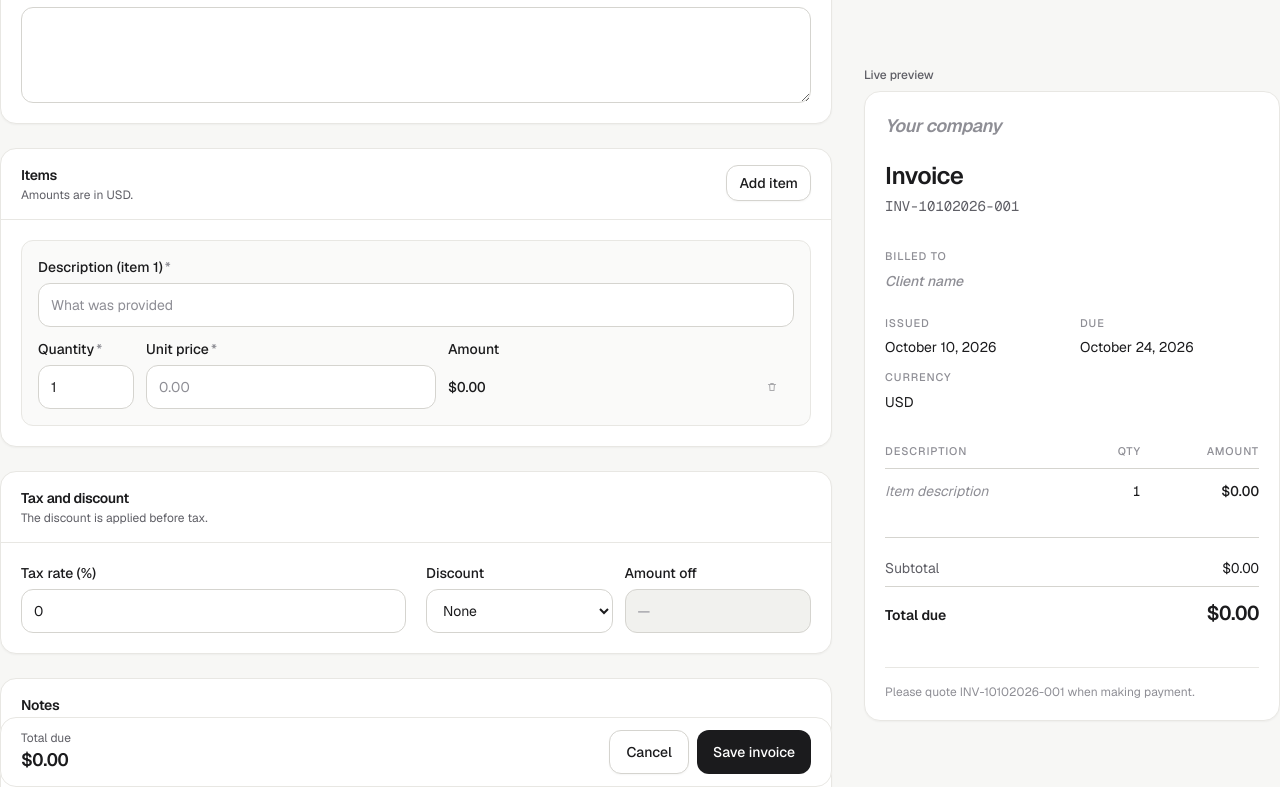
InvoiceForm: a new document › applies a percentage discount before tax and shows it
The width and height of the screenshot is (1280, 787).
(page scrolled)
Type "100" into the field labelled "Unit price" at (291, 387), box [146, 365, 436, 409]
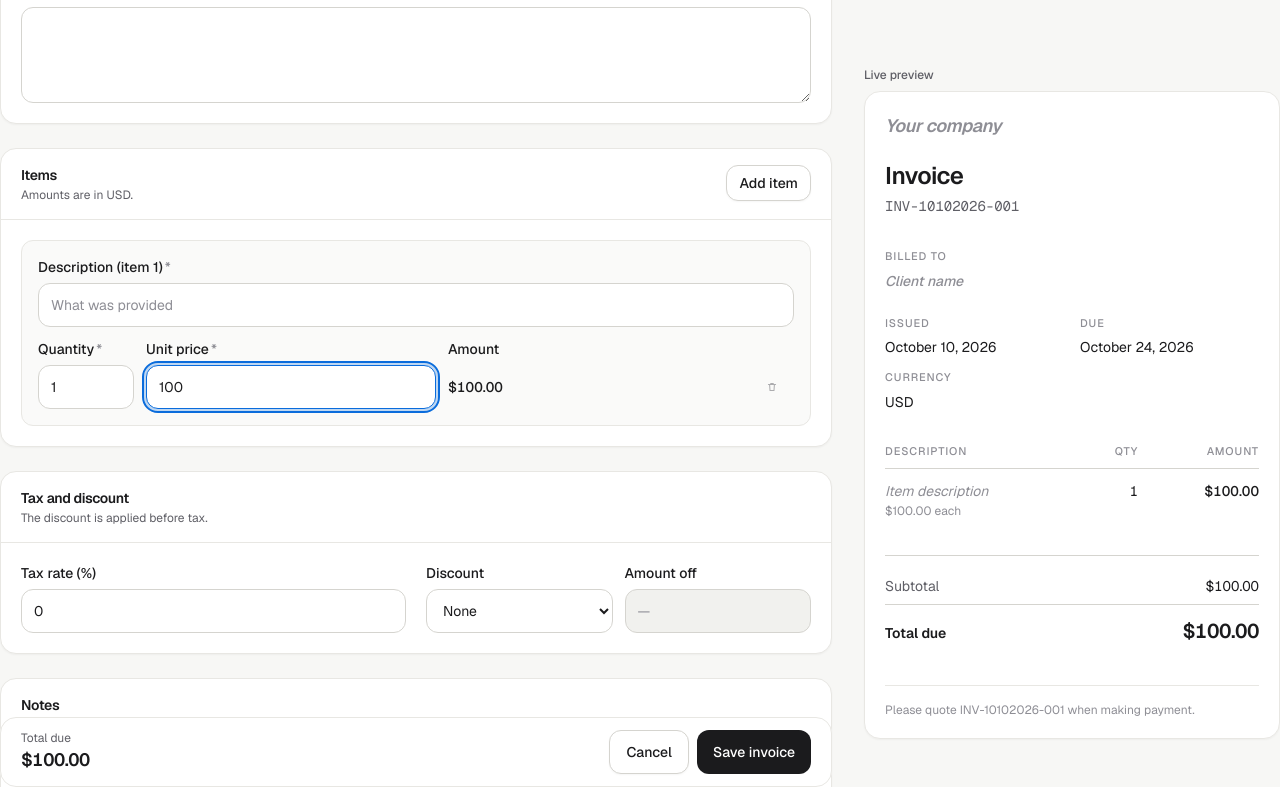
Replace the text in the field labelled "Tax rate (%)" with "10" at (214, 611), box [21, 589, 406, 633]
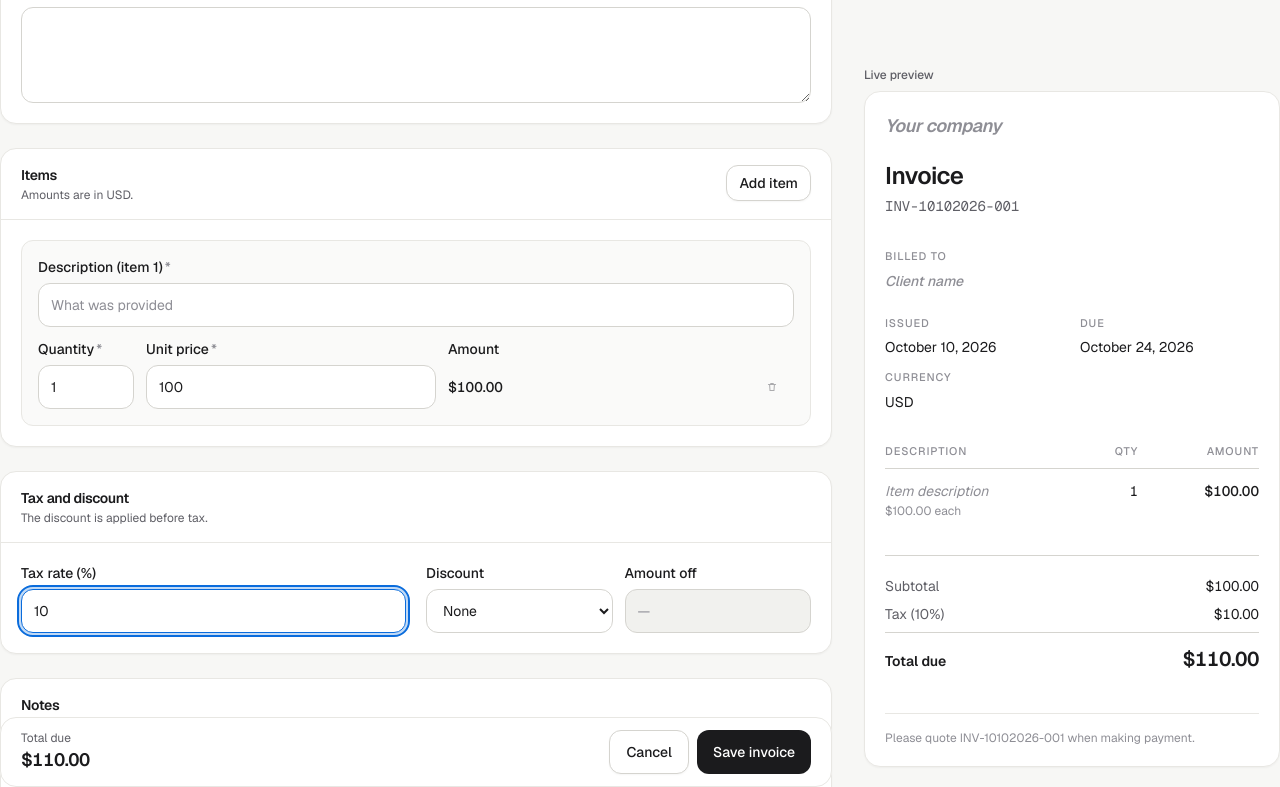
Select "Percentage" in the dropdown labelled "Discount" at (519, 611), box [426, 589, 612, 633]
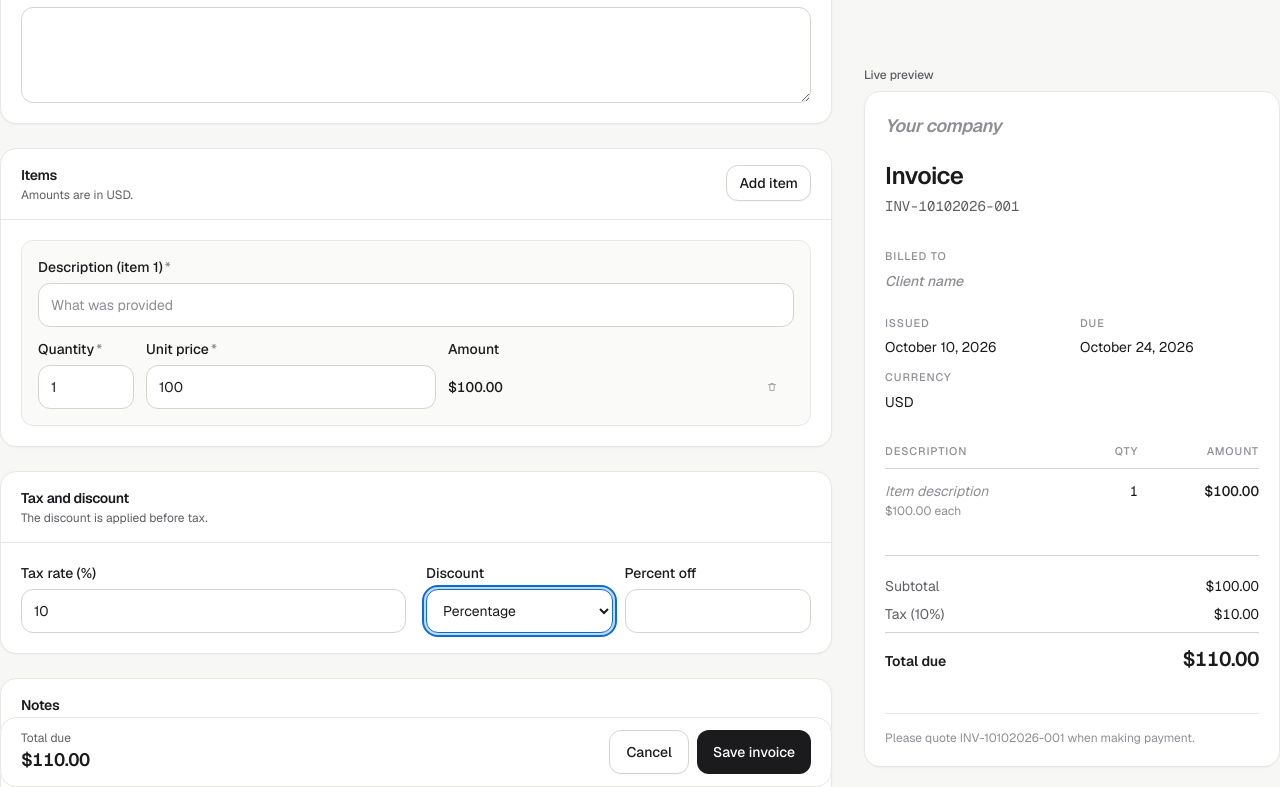
Type "20" into the field labelled "Percent off" at (718, 611), box [624, 589, 811, 633]
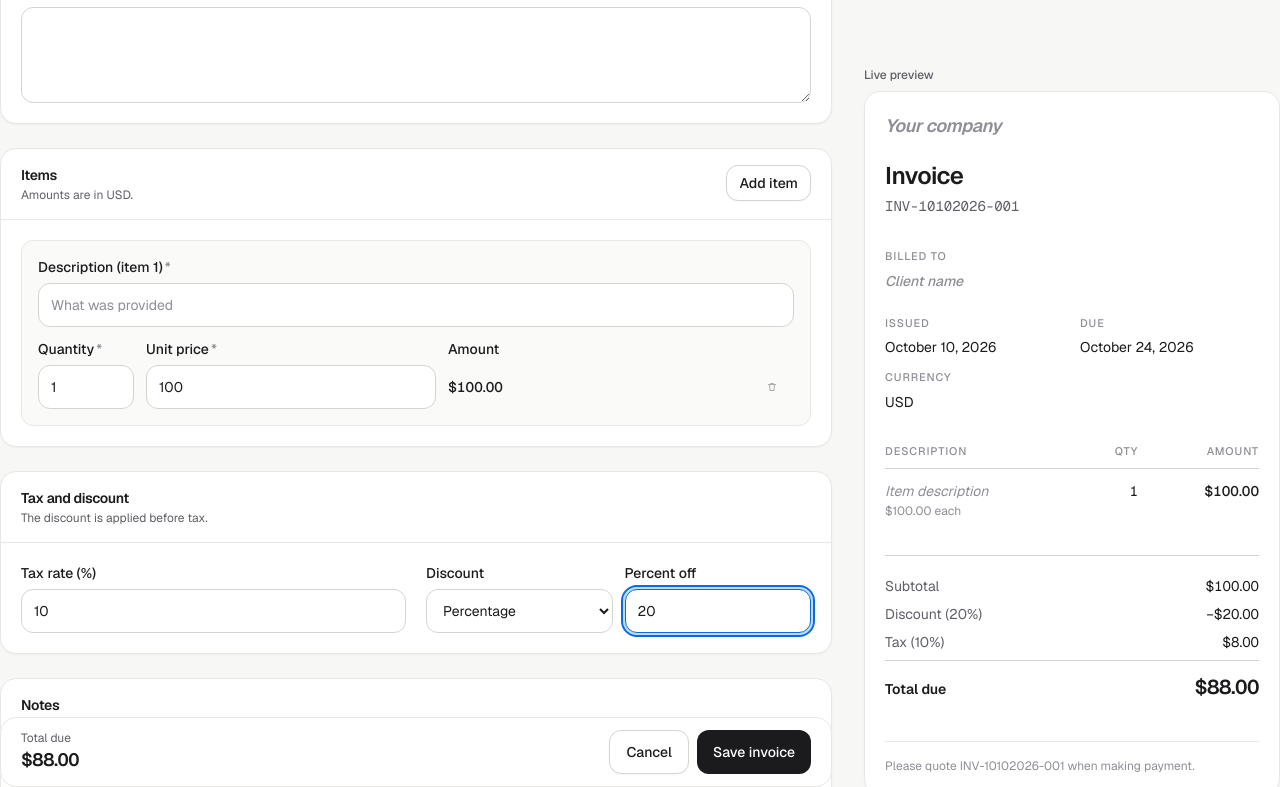
Result: the text "−$20.00" is shown at [1206, 603, 1259, 623]
Result: the text "$88.00" below "$8.00" is shown at [1194, 673, 1259, 699]
